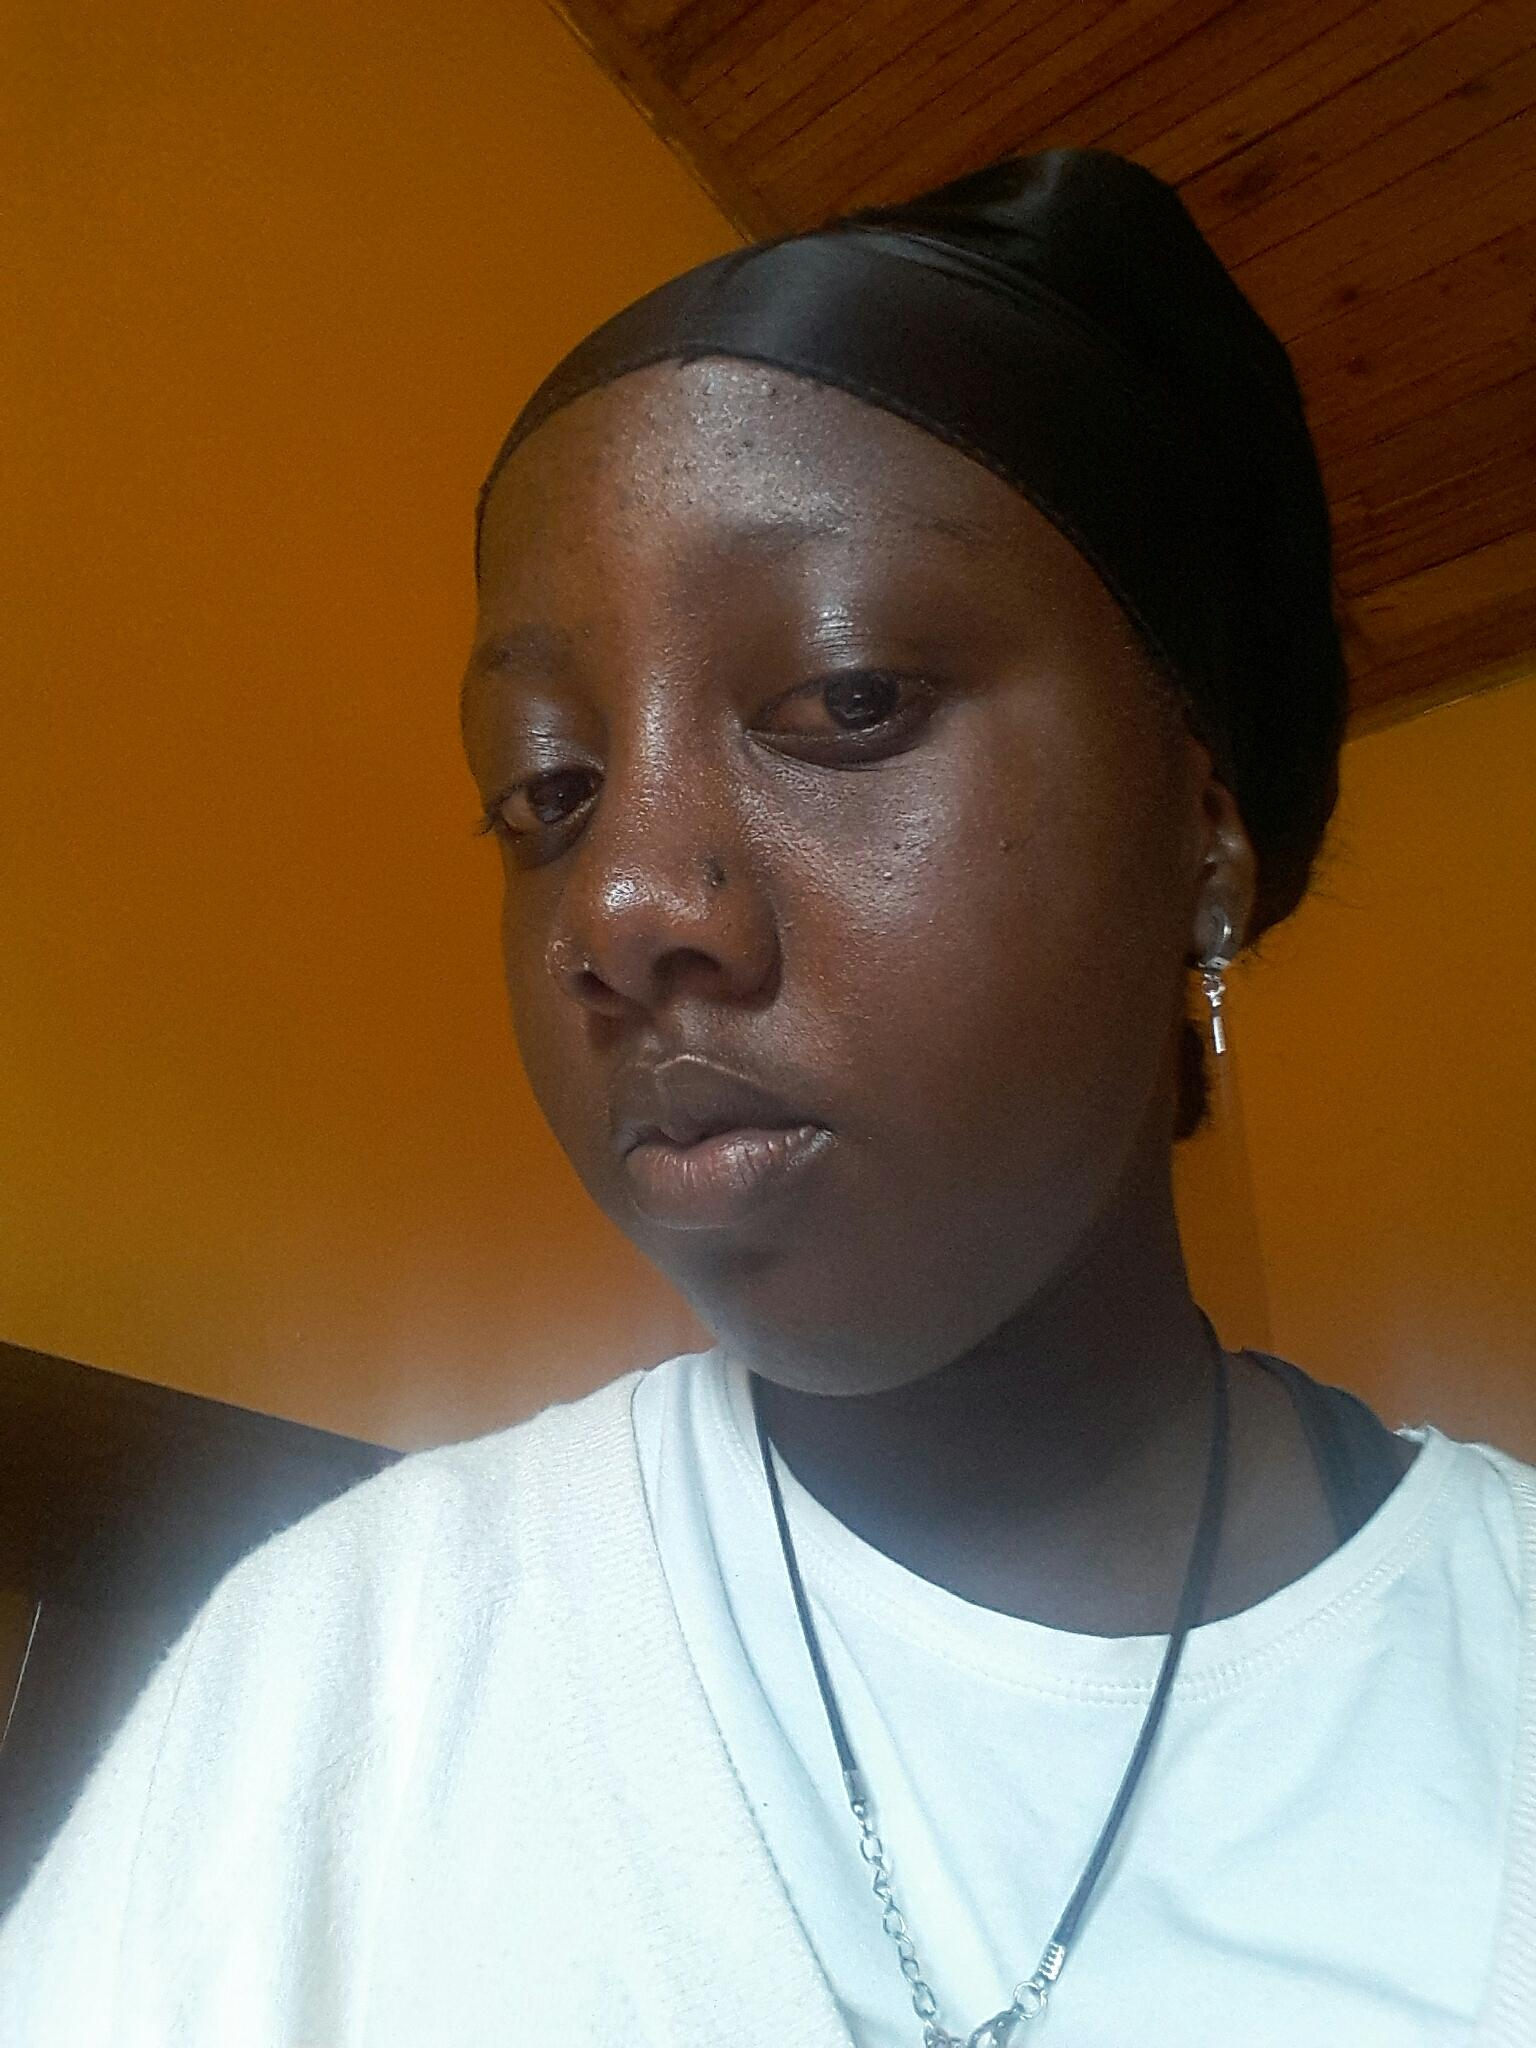Acne: (686, 848, 736, 895), (615, 479, 653, 519), (721, 432, 757, 466), (752, 376, 784, 403), (682, 405, 708, 432), (574, 529, 602, 555), (600, 424, 628, 448), (992, 830, 1020, 851), (697, 377, 726, 397), (676, 489, 700, 511), (679, 453, 700, 476), (579, 621, 600, 642), (876, 864, 895, 887), (642, 406, 662, 424), (629, 437, 647, 455), (887, 837, 905, 853)
